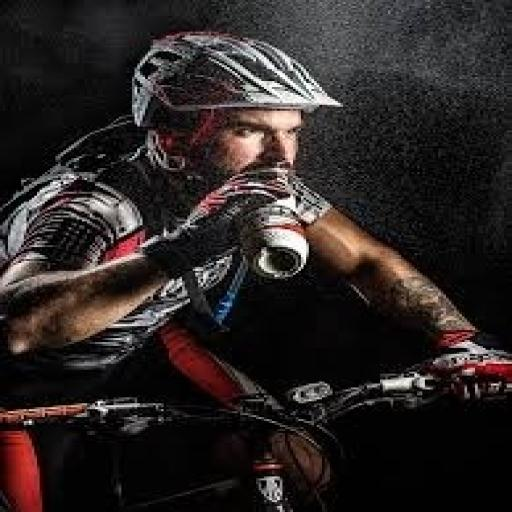cycling: (0, 27, 509, 510)
